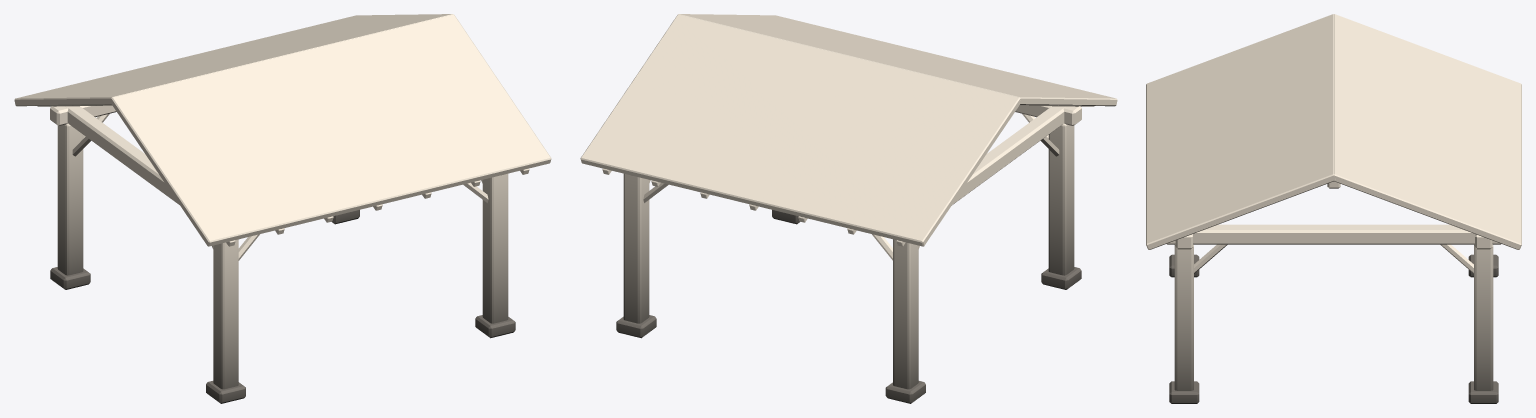
Rendered from SM_VK_Smithy_Canopy.fbx.
3 views of the same model, side by side, from view 1: azimuth 30°, elevation 25°; view 2: azimuth 150°, elevation 25°; view 3: azimuth 270°, elevation 25° (orthographic). The views are drawn at different scales.
Parts seen in each view (by area): view 1: SM_VK_Smithy_Canopy.001; view 2: SM_VK_Smithy_Canopy.001; view 3: SM_VK_Smithy_Canopy.001.
Part boxes in pixels (box(x1,y1,x2,y2)): SM_VK_Smithy_Canopy.001: box(14, 14, 551, 403); SM_VK_Smithy_Canopy.001: box(580, 14, 1117, 403); SM_VK_Smithy_Canopy.001: box(1146, 14, 1521, 403).
Size of the model in its own units: 7 by 4.89 by 6.91.
